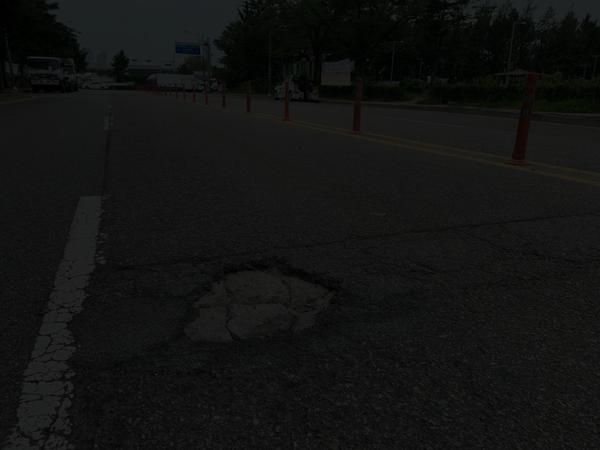pothole: (171, 250, 368, 348)
